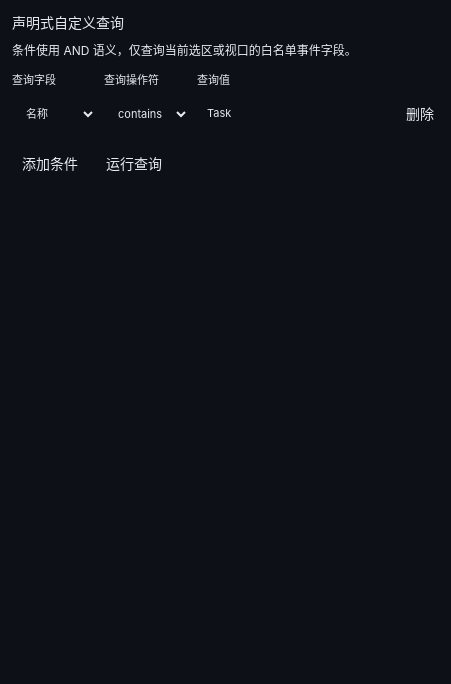
Test: CustomQueryPanel › keeps the response bounded while rendering only a review window
Click the button with aria-label "运行自定义查询": (134, 164) 96,144 -> 172,184
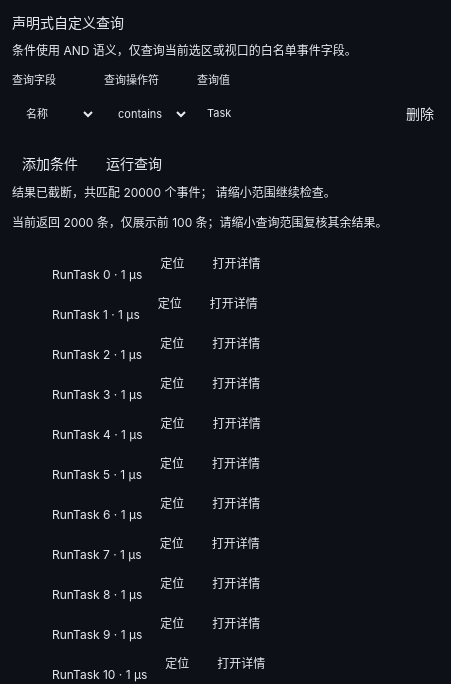
Now the text "当前返回 2000 条，仅展示前 100 条；请缩小查询范围复核其余结果。" is shown, box 12,215 -> 388,230
Now the number of list items is 100
